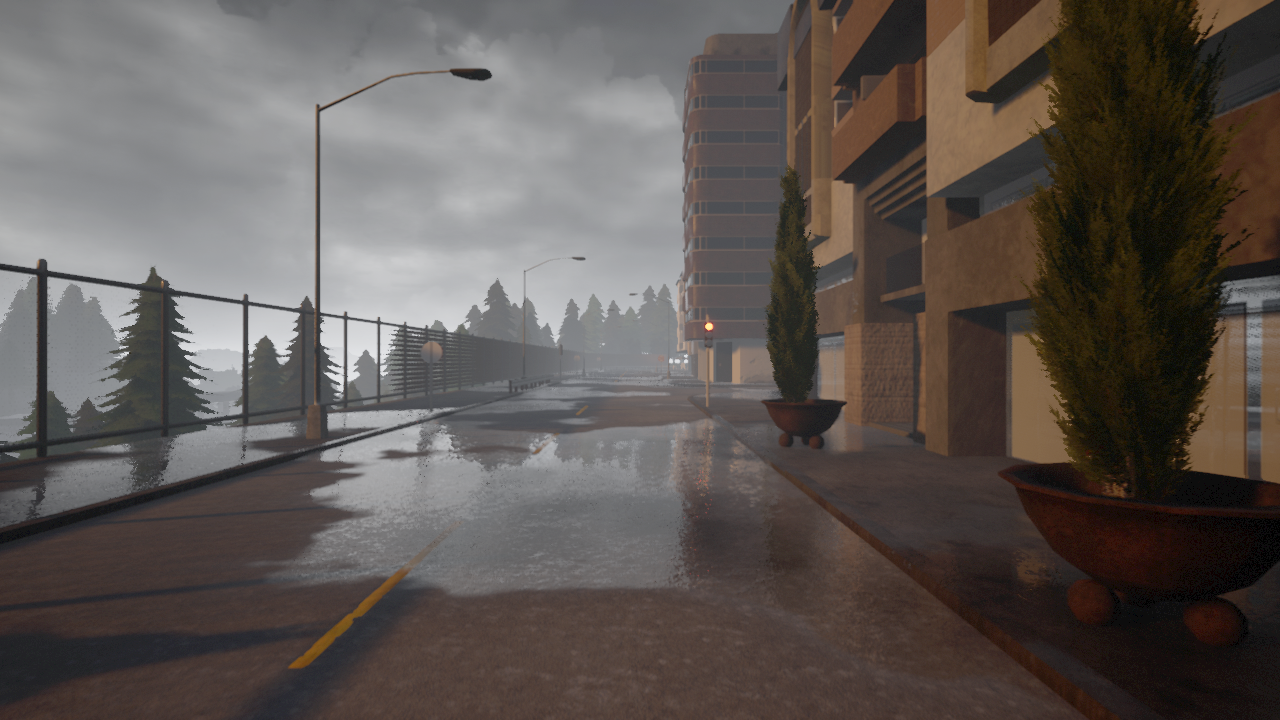red: (703, 320, 715, 348)
